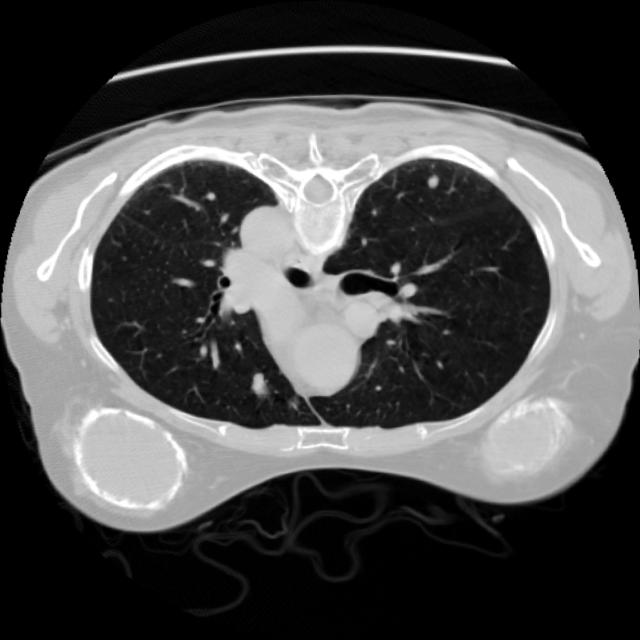nodule: (417, 166, 451, 200)
